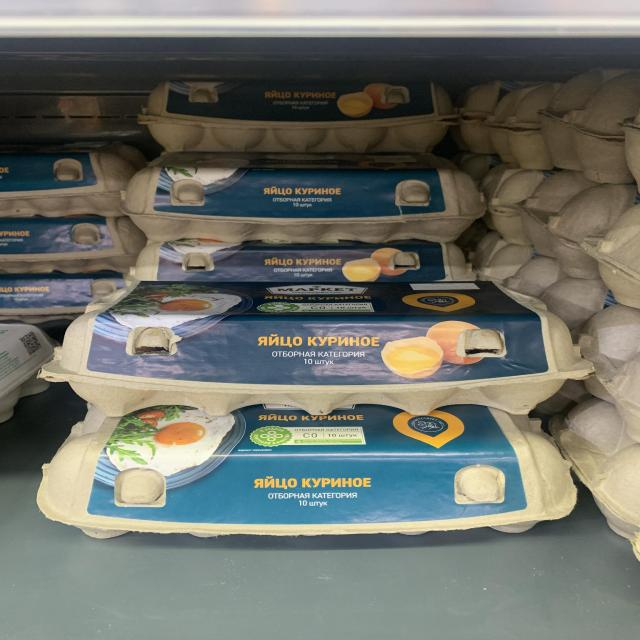organic waste: (35, 409, 582, 546), (41, 282, 594, 412), (123, 156, 485, 244), (134, 76, 458, 155), (137, 244, 476, 284)
